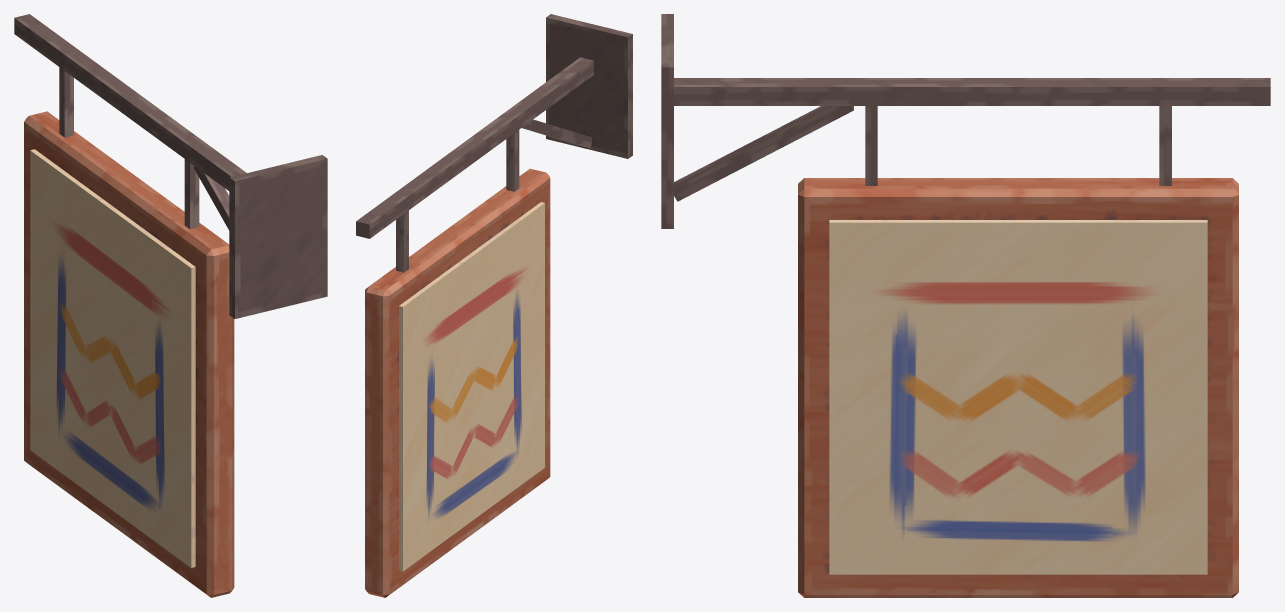
File: sign_cloth_body.fbx
3 renders of one model, left to right at view 1: azimuth 30°, elevation 25°; view 2: azimuth 150°, elevation 25°; view 3: azimuth 270°, elevation 25°, orthographic. The views are drawn at different scales.
Visible parts, largest first — view 1: sign_cloth_body; view 2: sign_cloth_body; view 3: sign_cloth_body.
Boxes of the visible parts, bbox=[...] form: sign_cloth_body: bbox=[14, 14, 327, 597]; sign_cloth_body: bbox=[356, 14, 632, 597]; sign_cloth_body: bbox=[661, 14, 1270, 597].
Size of the model in its own units: 0.6 by 2.9 by 2.9.
